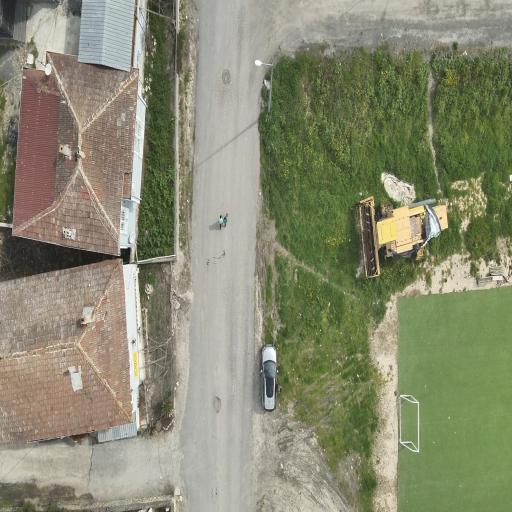car: (261, 344, 277, 410)
harvester: (356, 196, 447, 277)
person: (219, 214, 223, 228), (277, 382, 281, 392), (224, 213, 227, 226)
